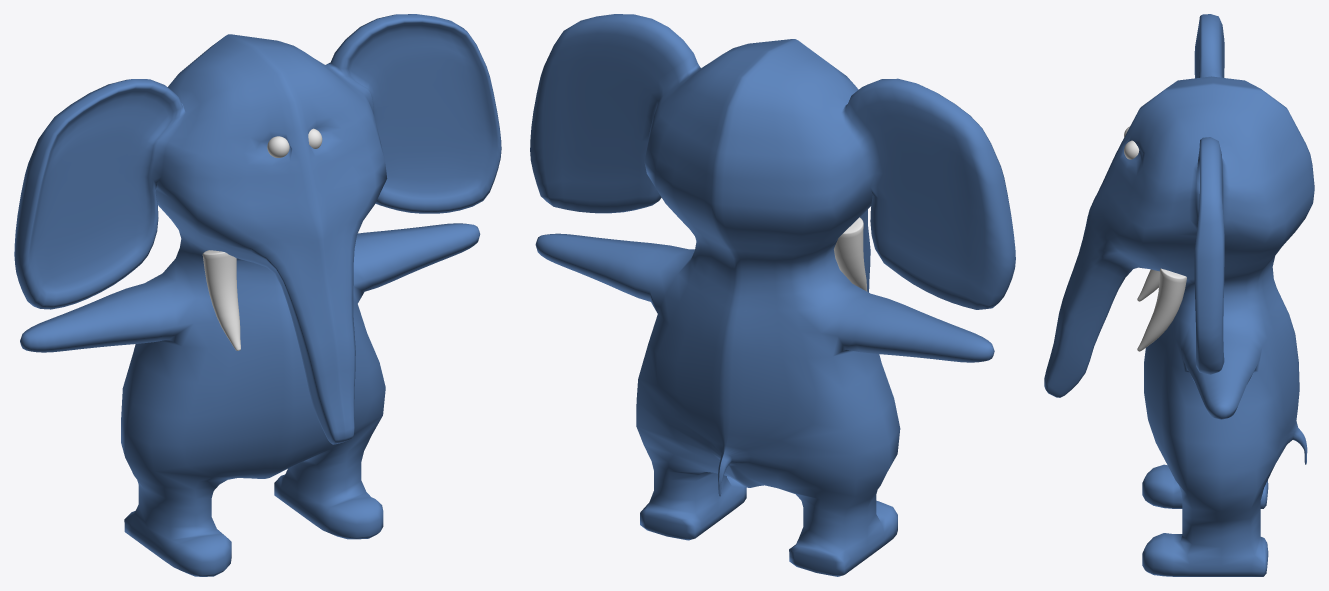
Rendered from Eric.fbx.
The picture shows the model from 3 angles, left to right: view 1: azimuth 30°, elevation 25°; view 2: azimuth 150°, elevation 25°; view 3: azimuth 270°, elevation 25°; orthographic projection. The views are drawn at different scales.
Visible parts, largest first — view 1: pSphere3; view 2: pSphere3; view 3: pSphere3.
Part boxes in pixels (x1,y1,x2,y2): pSphere3: (14,14,501,576); pSphere3: (530,14,1015,576); pSphere3: (1044,14,1314,576).
Bounding box in the file's own units: 5.56 × 5.35 × 2.91.
